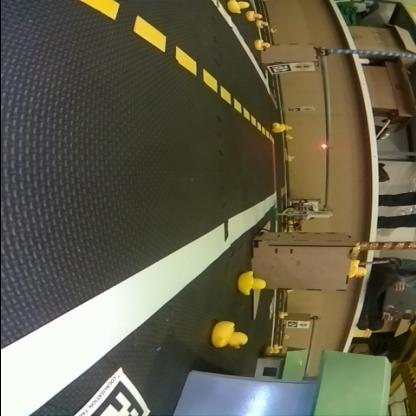Duckie: (213, 321, 249, 343), (238, 271, 266, 294), (348, 260, 366, 278), (227, 0, 249, 12), (246, 11, 262, 21), (256, 39, 270, 49), (272, 122, 285, 132), (257, 20, 266, 26), (287, 154, 295, 160), (285, 134, 293, 140)
QR code: (77, 368, 149, 415), (270, 64, 288, 72)
Signal sign: (293, 62, 312, 70)
Traffic light: (322, 143, 332, 149)
